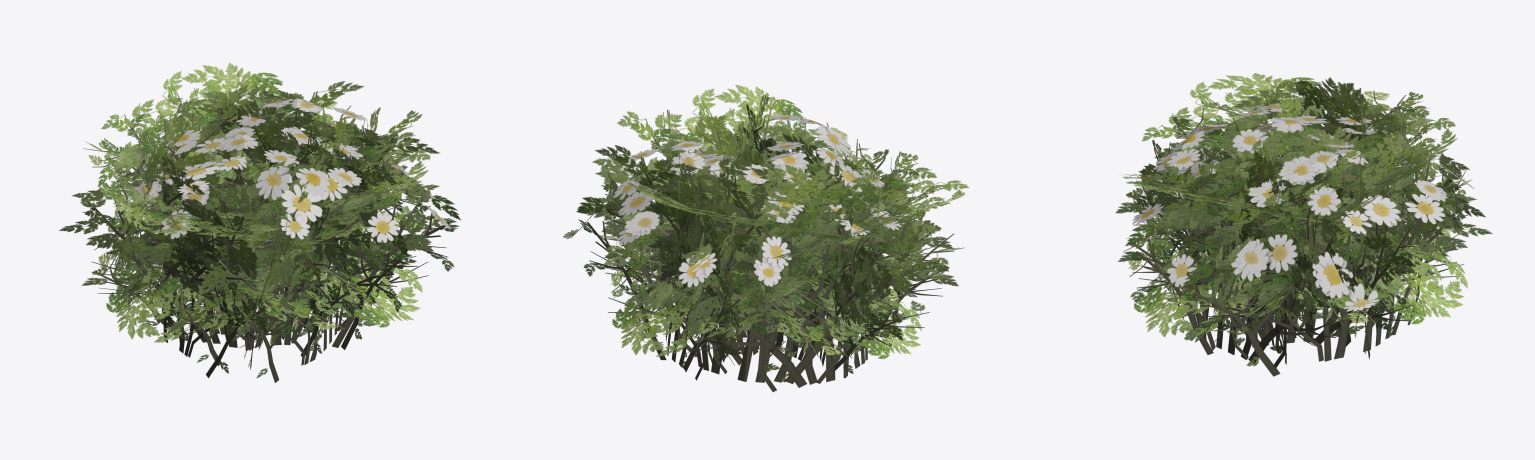
File: flowers1.glb
The picture shows the model from 3 angles, left to right: view 1: azimuth 30°, elevation 25°; view 2: azimuth 150°, elevation 25°; view 3: azimuth 270°, elevation 25°; orthographic projection. The views are drawn at different scales.
Parts seen in each view (by area): view 1: Flowers-02; view 2: Flowers-02; view 3: Flowers-02.
Part boxes in pixels (<box>): Flowers-02: <box>59,62,460,382</box>; Flowers-02: <box>563,84,968,391</box>; Flowers-02: <box>1115,73,1492,376</box>.
Size of the model in its own units: 1.47 by 0.9545 by 1.41.
Materials: 4 (4 with a texture image).
